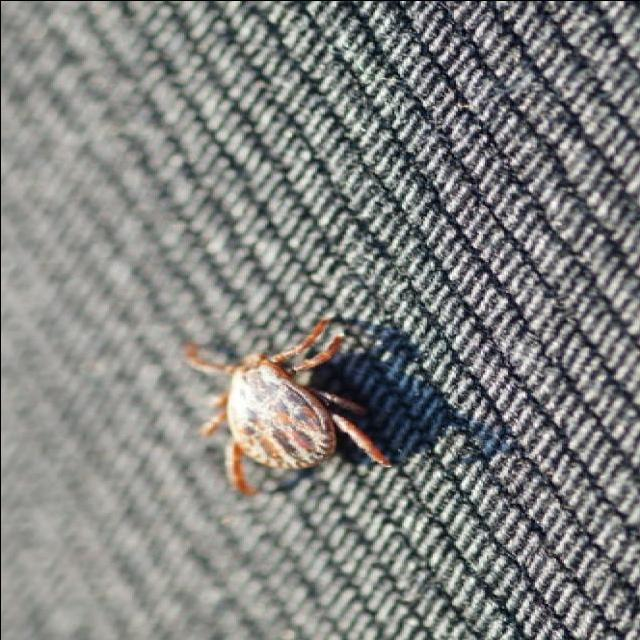Dermacentor Reticulatus-M: (181, 319, 391, 495)
